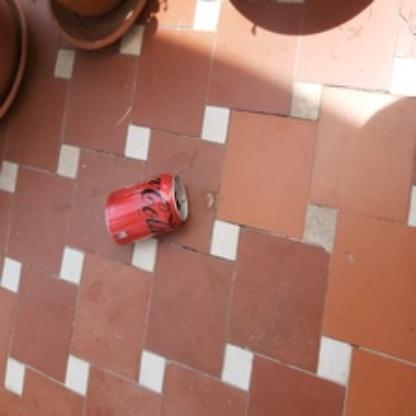Can: (106, 171, 188, 243)
